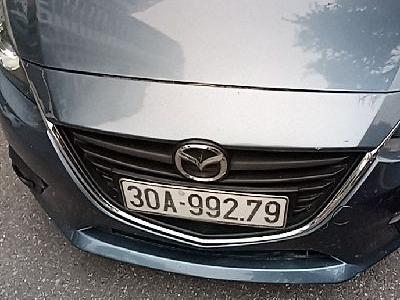car: (118, 177, 289, 231)
